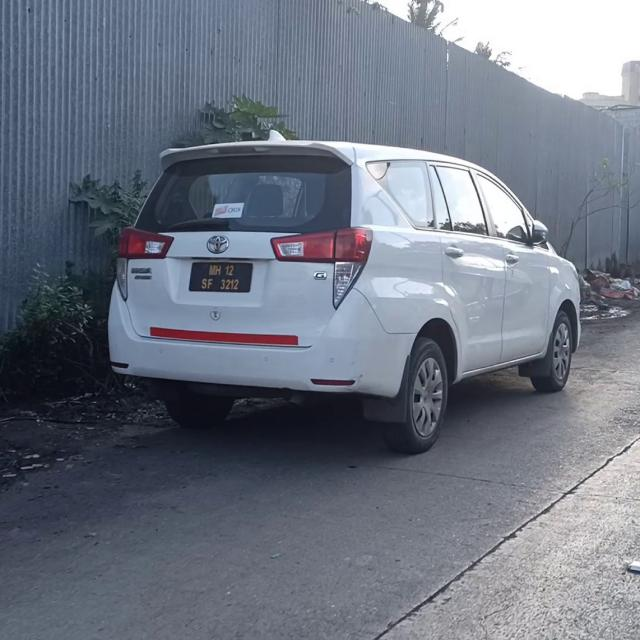Plate: (188, 261, 255, 294)
